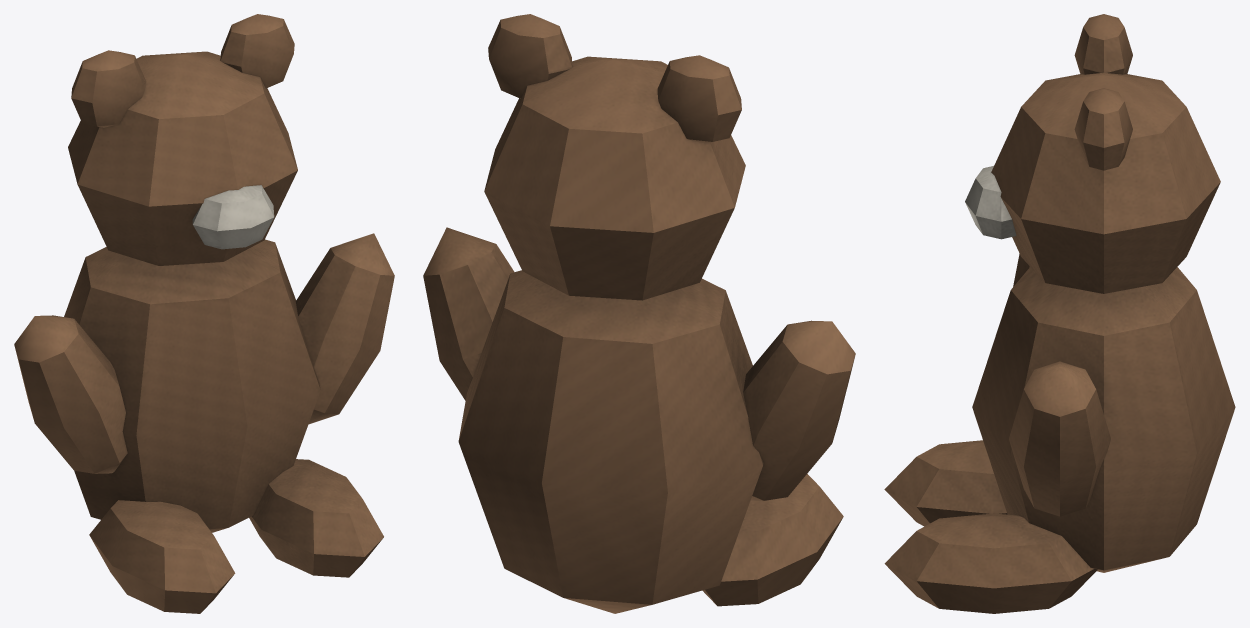
Rendered from H_Teddy.fbx.
3 views of the same model, side by side, from view 1: azimuth 30°, elevation 25°; view 2: azimuth 150°, elevation 25°; view 3: azimuth 270°, elevation 25° (orthographic). The views are drawn at different scales.
Visible parts, largest first — view 1: H_Teddy; view 2: H_Teddy; view 3: H_Teddy.
Part boxes in pixels (x1,y1,x2,y2): H_Teddy: (14, 14, 394, 613); H_Teddy: (423, 14, 855, 613); H_Teddy: (884, 14, 1235, 613).
Size of the model in its own units: 120 by 157 by 96.
Materials: 1 (1 with a texture image).
